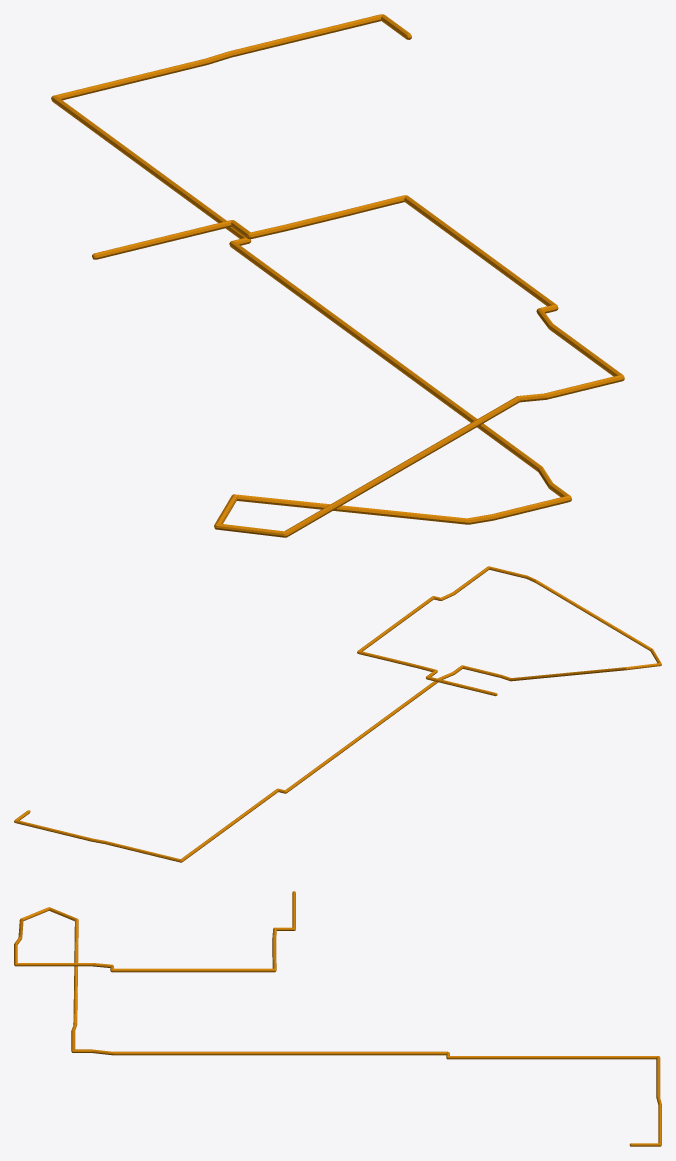
The picture shows the model from 3 angles, top to bottom: view 1: azimuth 30°, elevation 25°; view 2: azimuth 150°, elevation 25°; view 3: azimuth 270°, elevation 25°; orthographic projection. The views are drawn at different scales.
Size of the model in its own units: 2406 by 520 by 3390.
